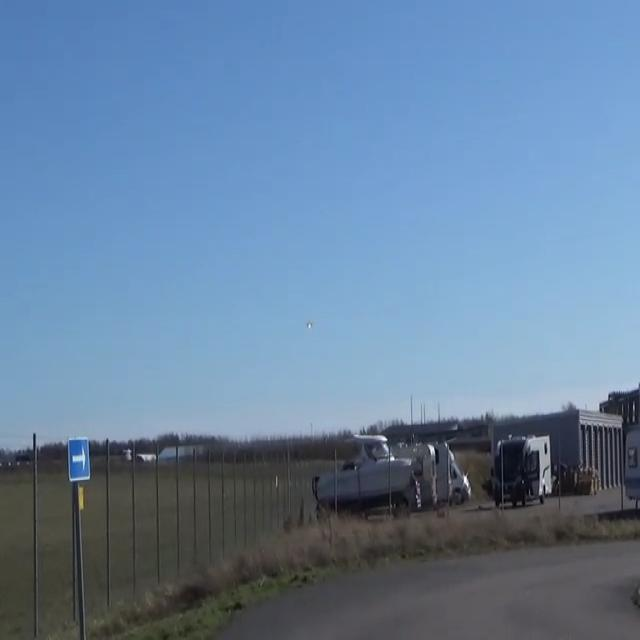AirPlane: (296, 312, 325, 338)
